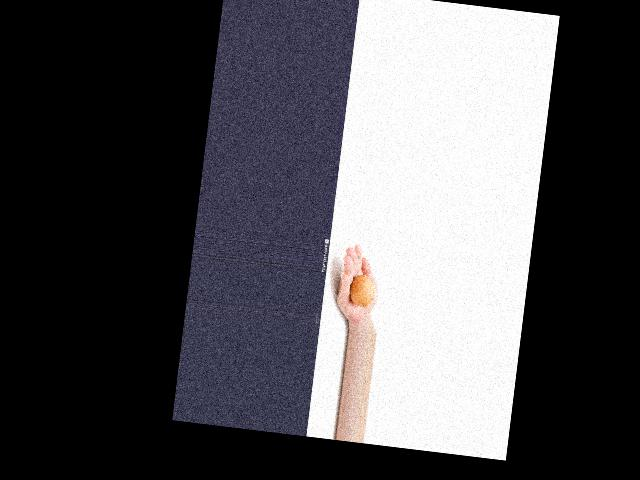egg: (348, 274, 376, 308)
